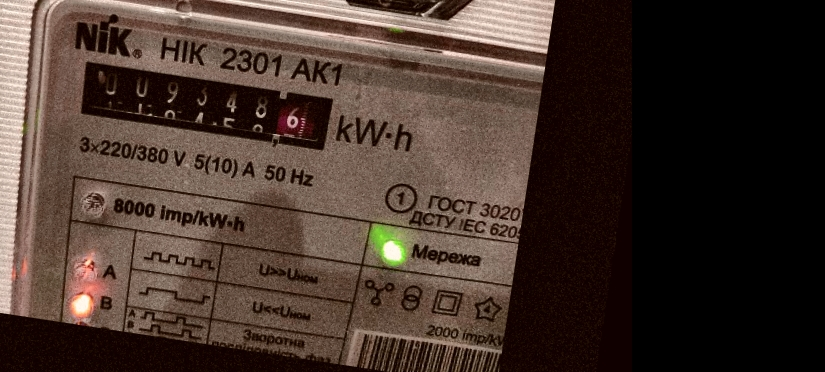0: (132, 72, 150, 97), (102, 68, 118, 95)
3: (192, 80, 210, 108)
4: (221, 85, 239, 114)
6: (282, 101, 302, 130)
8: (251, 90, 270, 120)
9: (161, 77, 180, 105)
screen: (66, 51, 343, 160)
